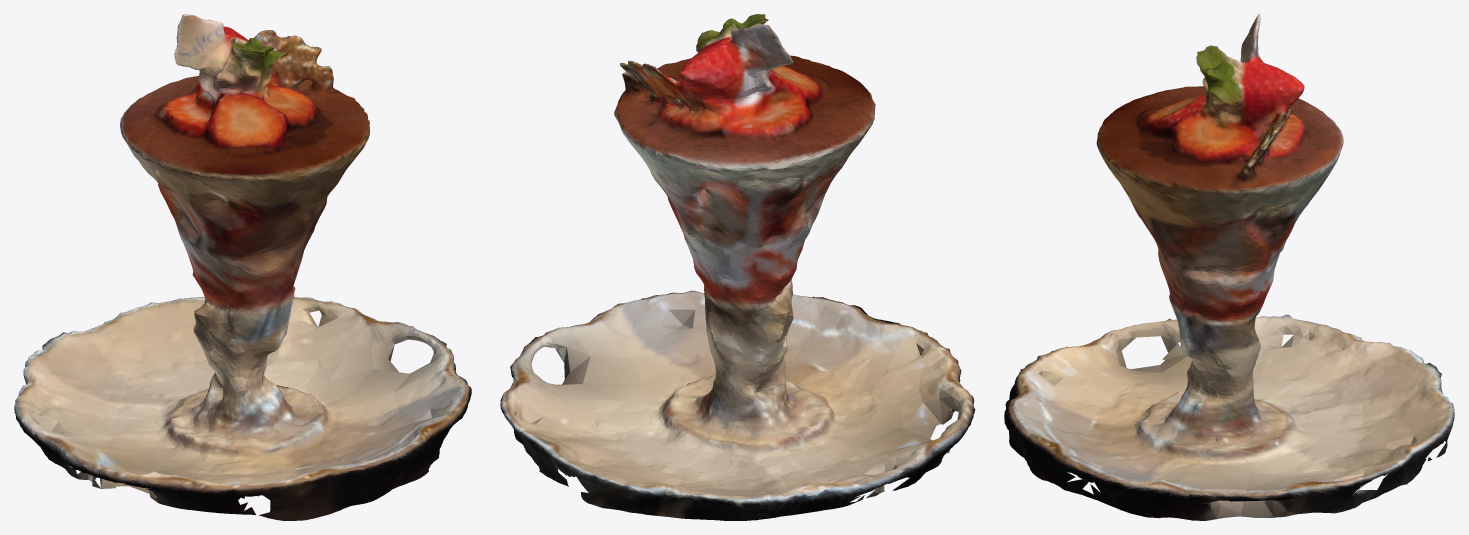
The model's file is drink-berry-royale.glb.
The picture shows the model from 3 angles, left to right: view 1: azimuth 30°, elevation 25°; view 2: azimuth 150°, elevation 25°; view 3: azimuth 270°, elevation 25°; orthographic projection. The views are drawn at different scales.
Visible parts, largest first — view 1: glass; view 2: glass; view 3: glass.
Boxes of the visible parts, x1,y1,x2,y2 form: glass: (14, 14, 471, 520); glass: (500, 14, 975, 520); glass: (1004, 14, 1454, 520).
Bounding box in the file's own units: 0.1754 × 0.1736 × 0.1768.
1 material, 1 textured.
